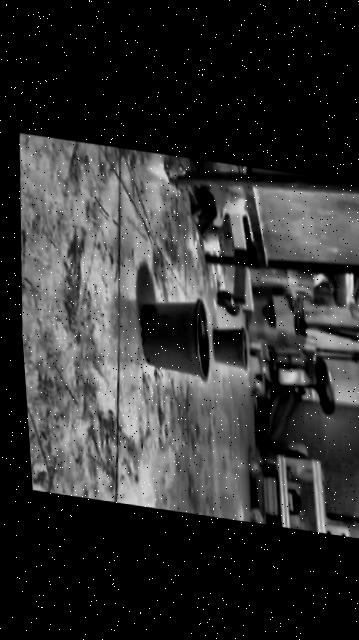pot: (134, 289, 214, 381), (210, 322, 249, 369)
